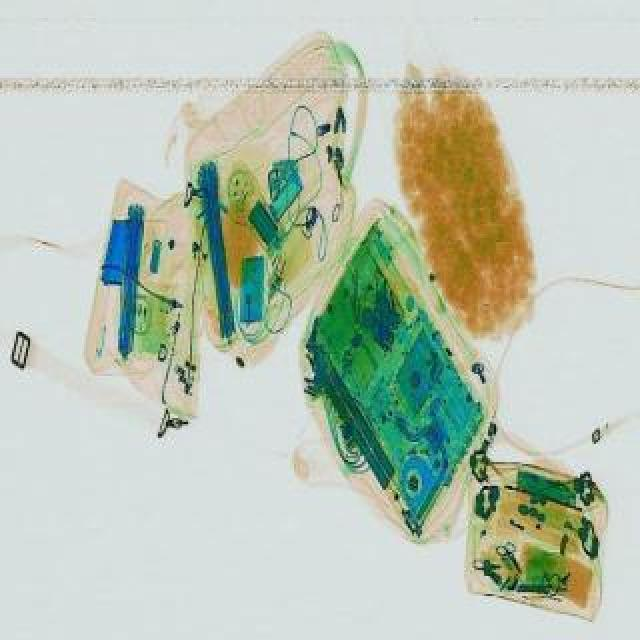pliers: (494, 538, 528, 578)
